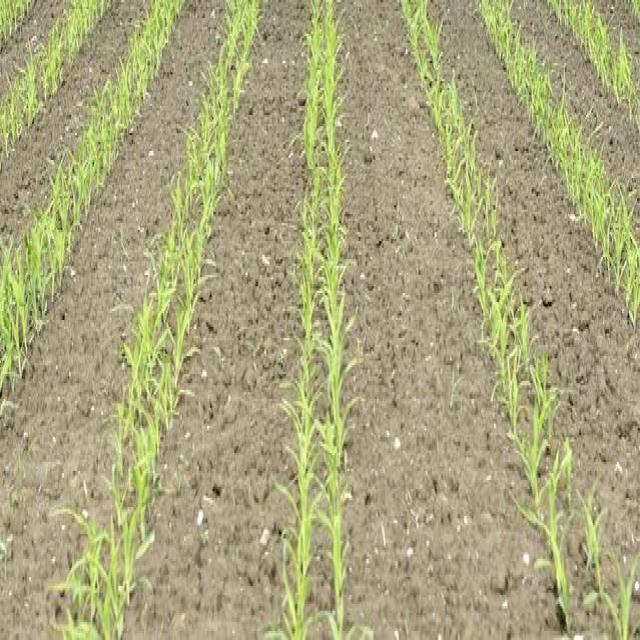row: (0, 3, 232, 640), (339, 0, 564, 640), (429, 3, 640, 622), (125, 0, 310, 640), (0, 0, 156, 275), (511, 0, 640, 240), (591, 0, 640, 82)
